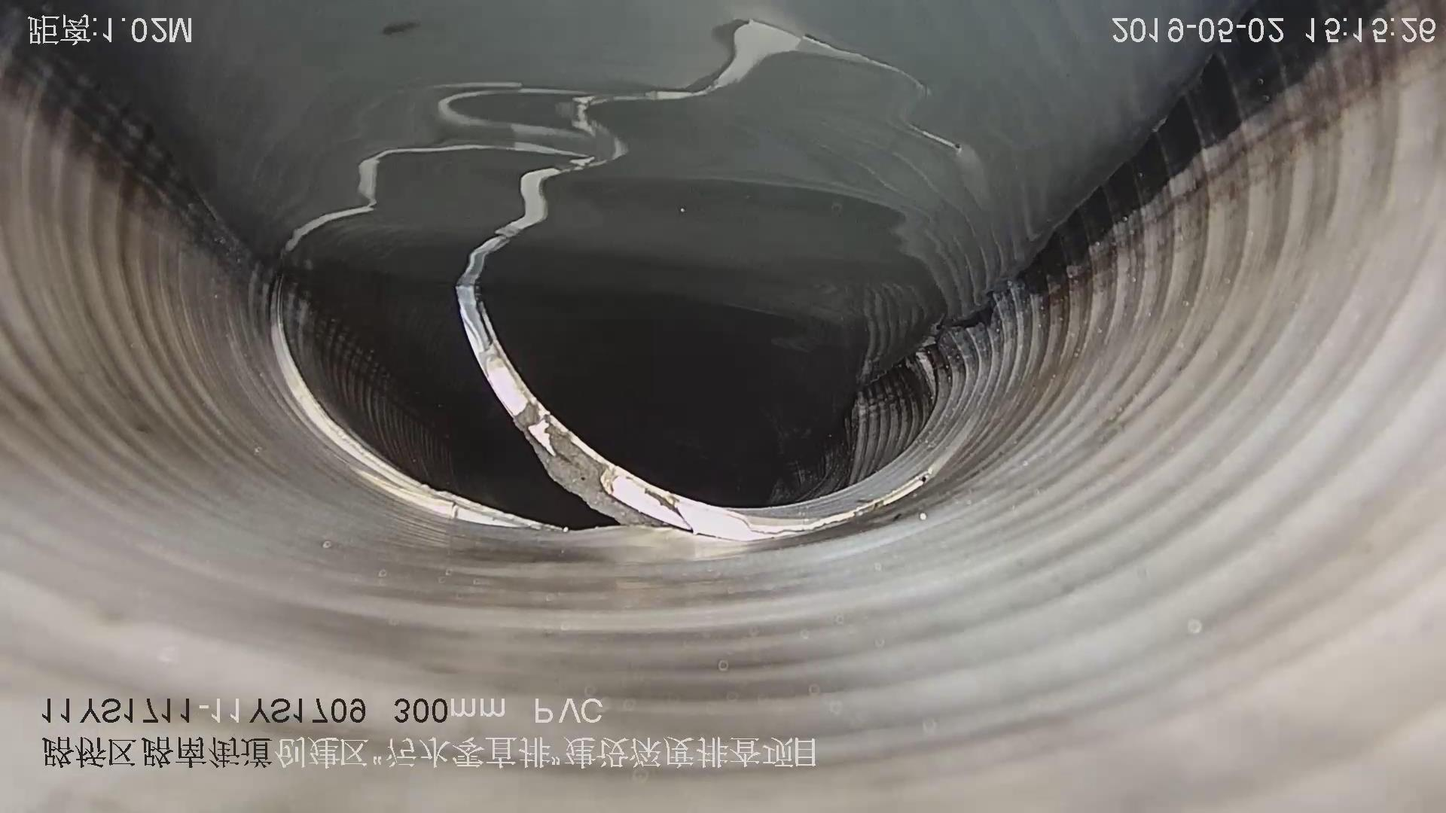JKCL: (456, 284, 935, 542), (273, 329, 569, 531)
